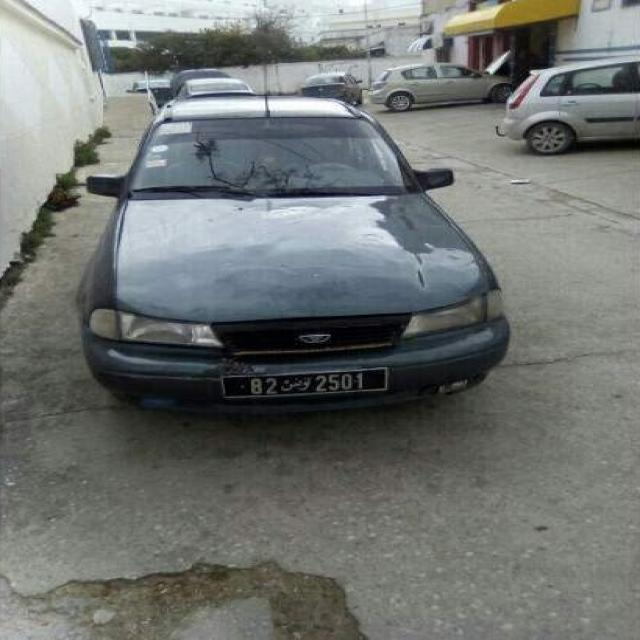licence plate: (225, 369, 391, 396)
